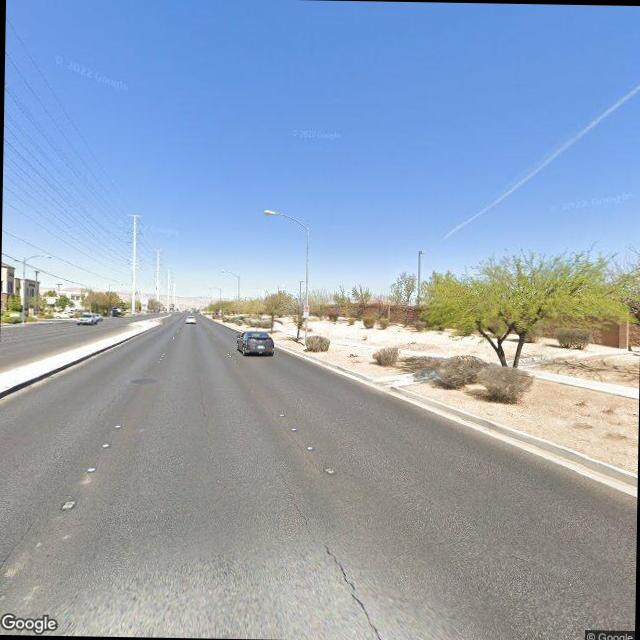pothole: (276, 473, 408, 640)
